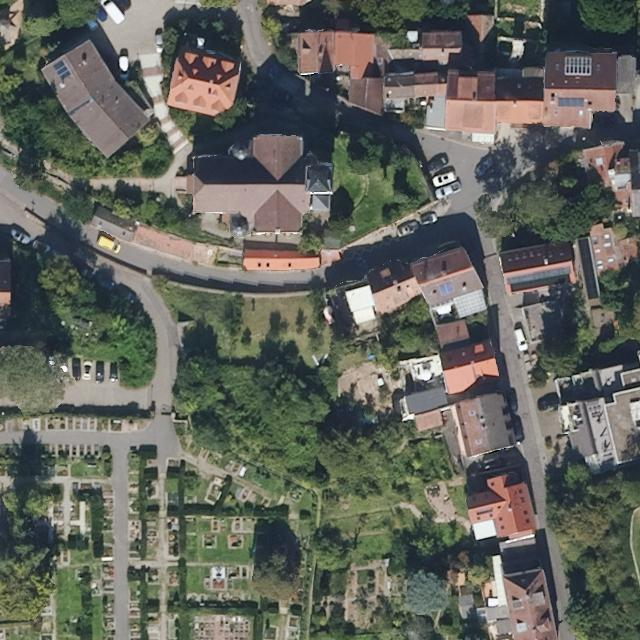PV: (50, 56, 73, 84)
